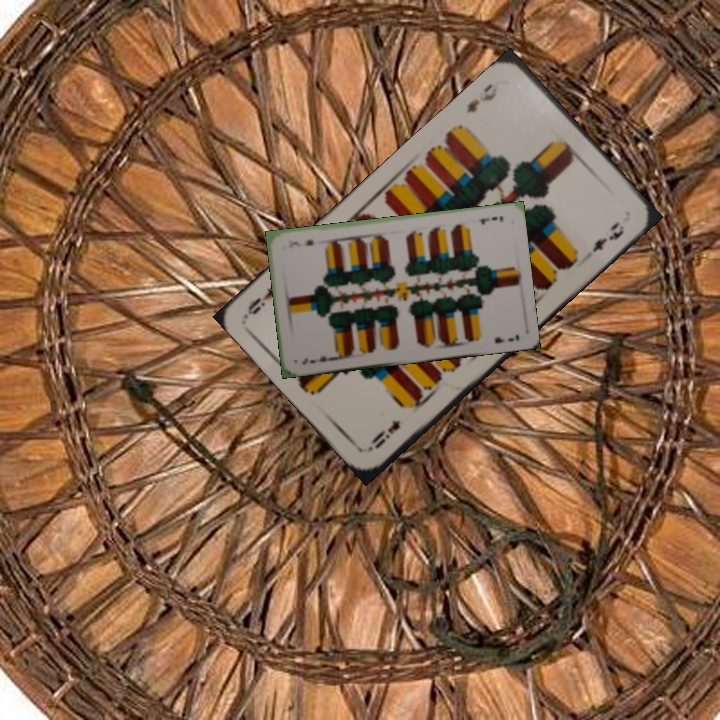E7: (298, 351, 336, 367), (475, 212, 506, 227)
E9: (462, 78, 506, 116), (366, 415, 403, 453)
